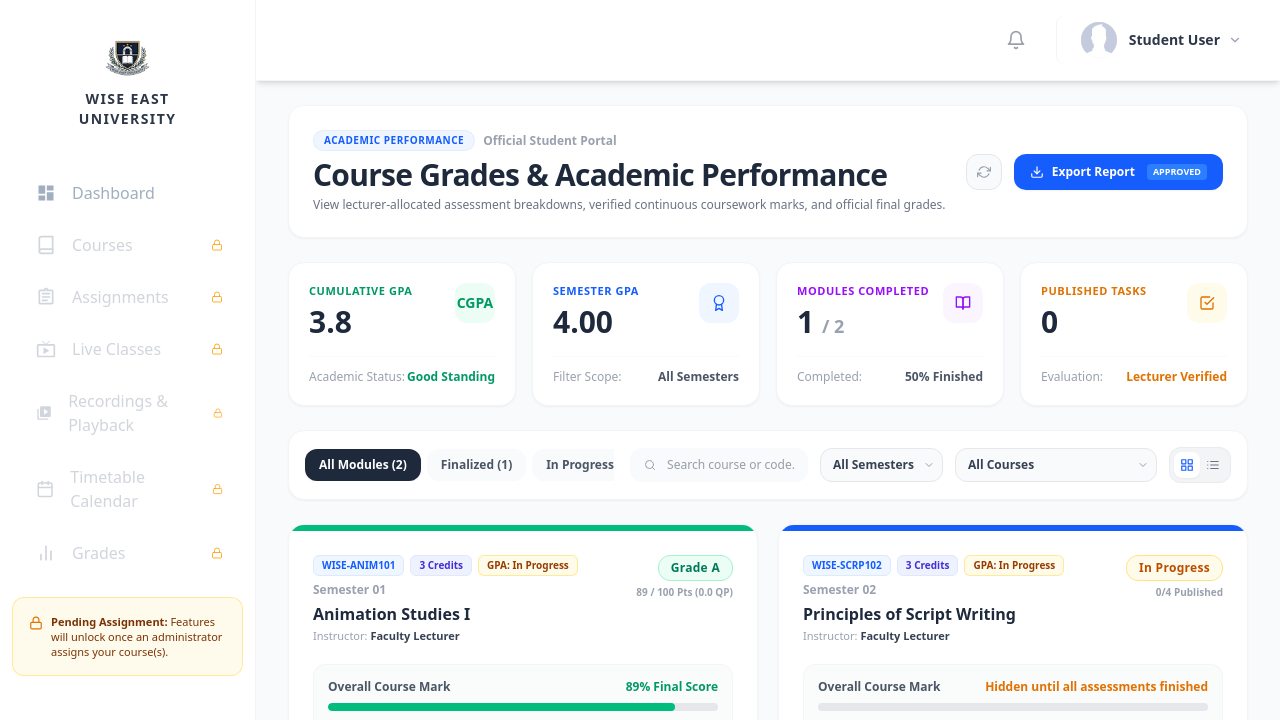
Test: GradesPage component › opens download options modal when Export Report button is clicked and report is approved
Check: the heading "Animation Studies I" is shown, box [313,602,470,624]
Click the button "Export Report Approved" at (1118, 172), box [1014,154,1223,190]
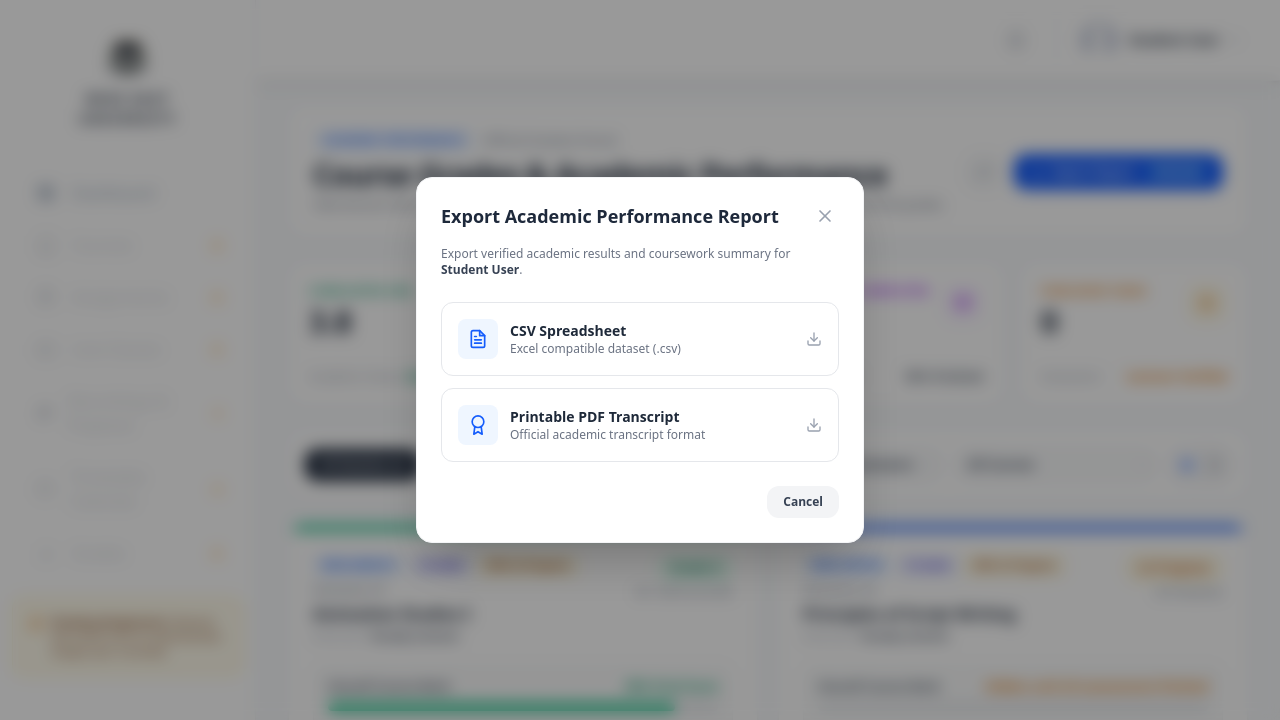
Check: the heading "Export Academic Performance Report" is shown, box [441,202,779,230]
Check: the heading "CSV Spreadsheet" is shown, box [510,321,626,340]
Check: the heading "Printable PDF Transcript" is shown, box [510,407,705,427]
